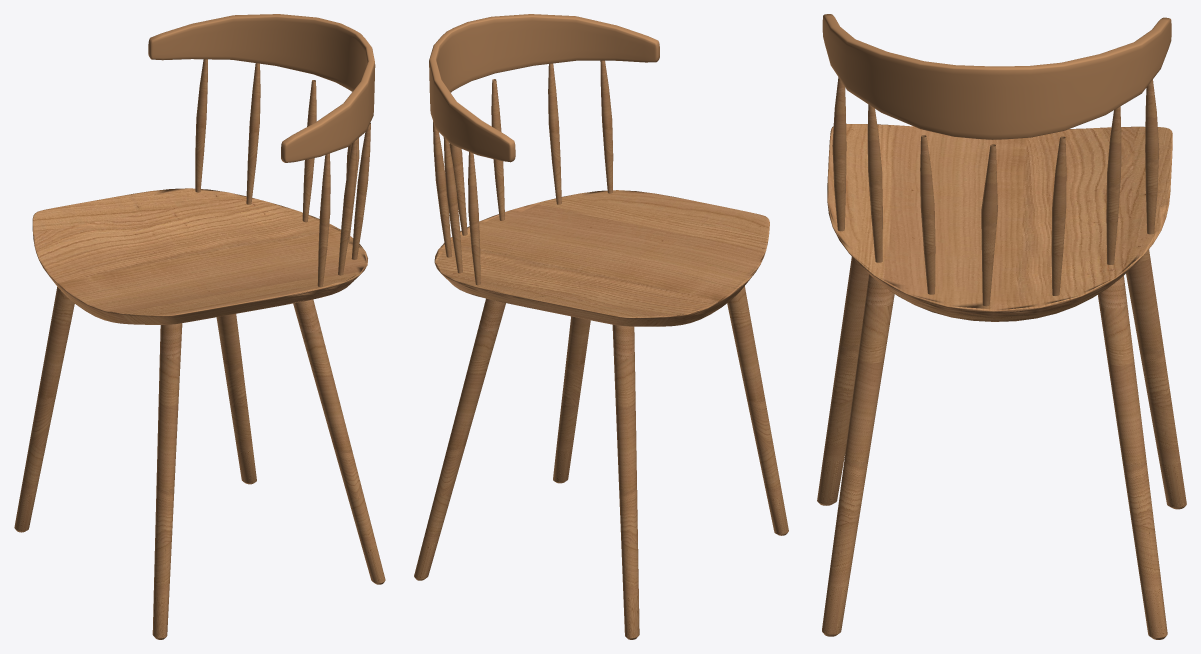
The model's file is chair.gltf.
The picture shows the model from 3 angles, left to right: view 1: azimuth 30°, elevation 25°; view 2: azimuth 150°, elevation 25°; view 3: azimuth 270°, elevation 25°; orthographic projection. The views are drawn at different scales.
Parts seen in each view (by area): view 1: 椅子13; view 2: 椅子13; view 3: 椅子13.
Part boxes in pixels (bbox=[...]): 椅子13: bbox=[14, 14, 385, 639]; 椅子13: bbox=[414, 14, 788, 639]; 椅子13: bbox=[817, 14, 1186, 639].
Size of the model in its own units: 0.4844 by 0.7819 by 0.4412.
Materials: 1 (1 with a texture image).
